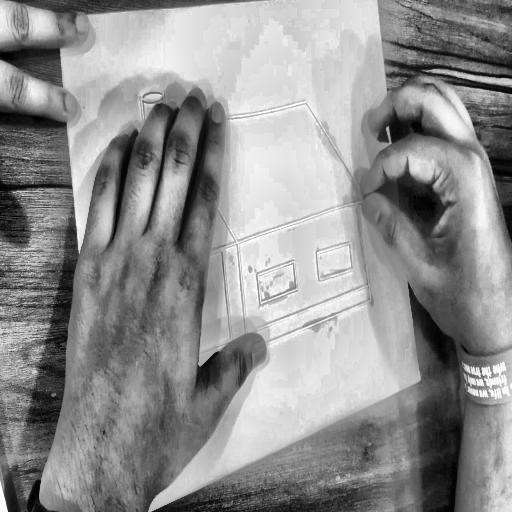bottom_right: (416, 370, 425, 386)
house: (95, 46, 393, 414)
top_left: (55, 13, 63, 26)
